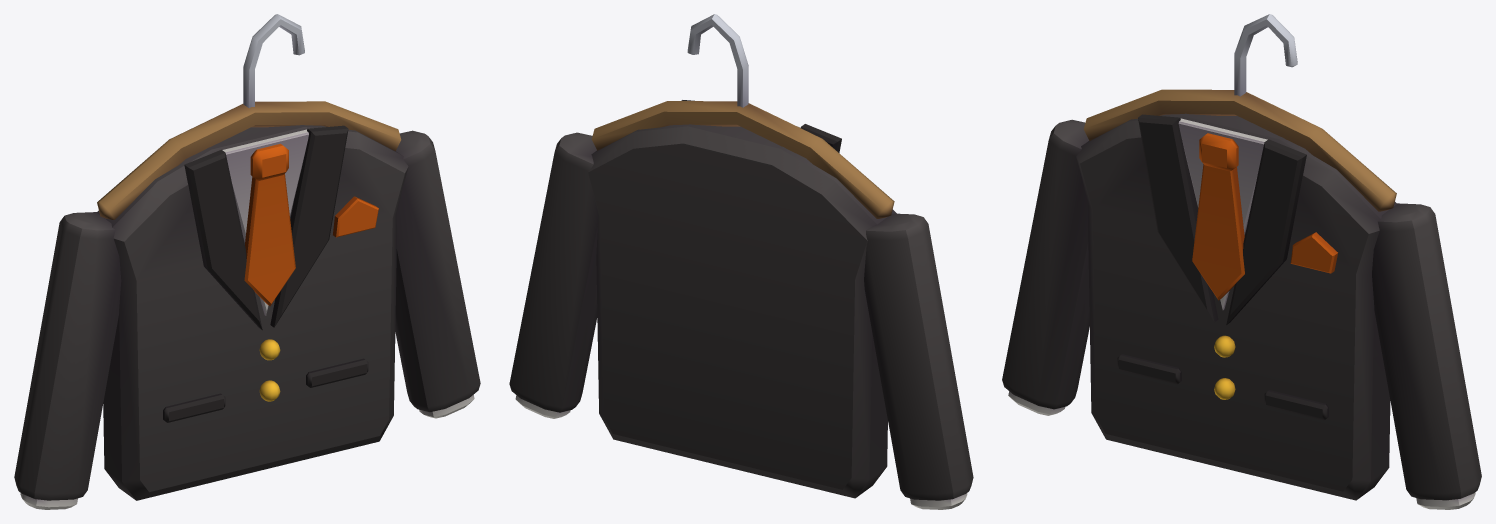
Rendered from suit.glb.
3 renders of one model, left to right at view 1: azimuth 30°, elevation 25°; view 2: azimuth 150°, elevation 25°; view 3: azimuth 330°, elevation 25°, orthographic. The views are drawn at different scales.
Parts seen in each view (by area): view 1: suit; view 2: suit; view 3: suit.
Part boxes in pixels (bbox=[...]): suit: bbox=[14, 14, 480, 509]; suit: bbox=[509, 14, 973, 509]; suit: bbox=[1002, 14, 1481, 509].
Size of the model in its own units: 0.6397 by 0.593 by 0.0985.
